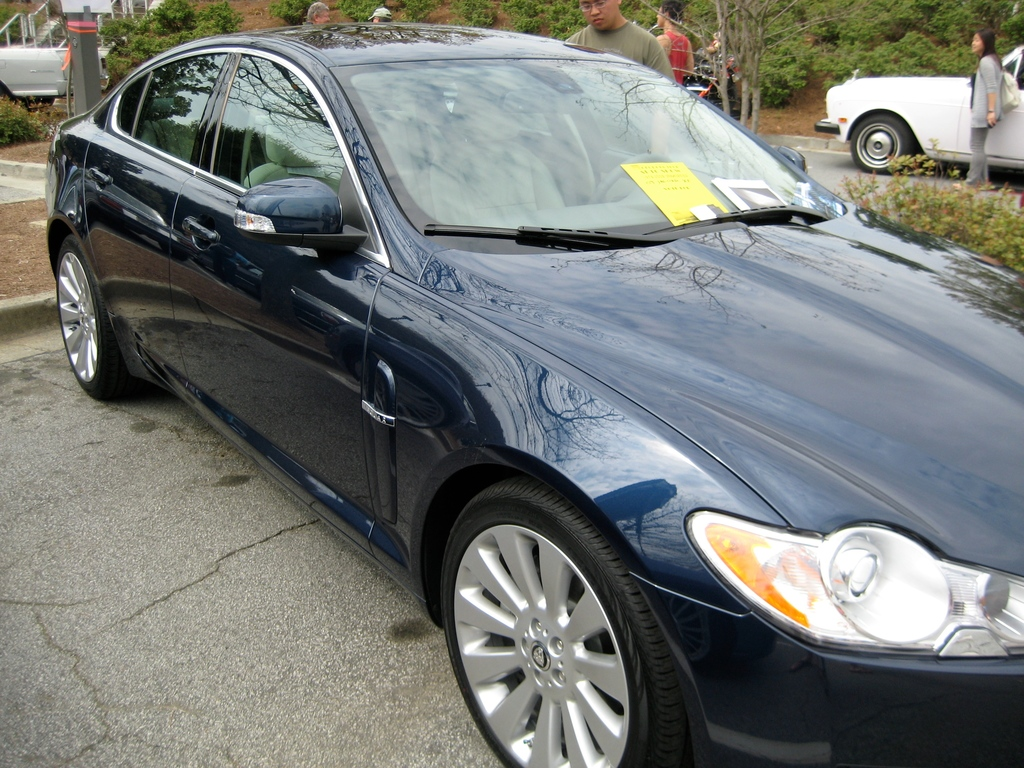Tree: (0, 0, 1023, 135)
